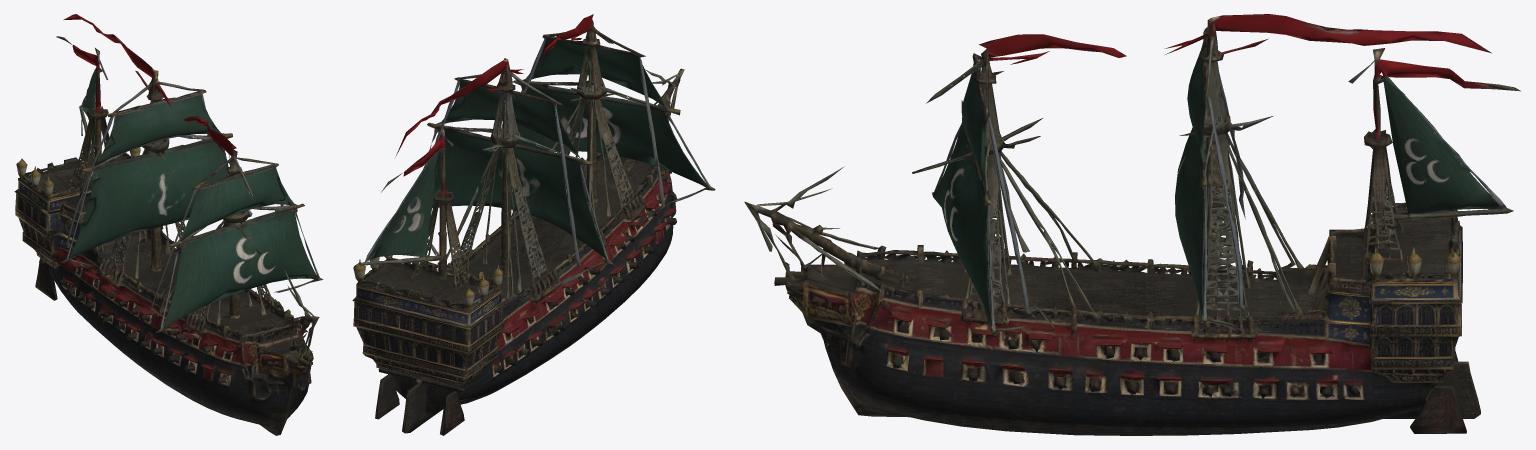
The model's file is osmanli-kapak-karaka-kalyonu-1682-1700-tripo-v1.glb.
3 views of the same model, side by side, from view 1: azimuth 30°, elevation 25°; view 2: azimuth 150°, elevation 25°; view 3: azimuth 270°, elevation 25° (orthographic). The views are drawn at different scales.
Visible parts, largest first — view 1: tripo_node_b01ee3cb-5a41-4582-9965-9f4e39def12e; view 2: tripo_node_b01ee3cb-5a41-4582-9965-9f4e39def12e; view 3: tripo_node_b01ee3cb-5a41-4582-9965-9f4e39def12e.
Boxes of the visible parts, box(x1,y1,x2,y2) form: tripo_node_b01ee3cb-5a41-4582-9965-9f4e39def12e: box(14, 14, 323, 435); tripo_node_b01ee3cb-5a41-4582-9965-9f4e39def12e: box(352, 14, 715, 435); tripo_node_b01ee3cb-5a41-4582-9965-9f4e39def12e: box(744, 14, 1520, 435).
Size of the model in its own units: 0.4101 by 0.5728 by 1.
1 material, 1 textured.
